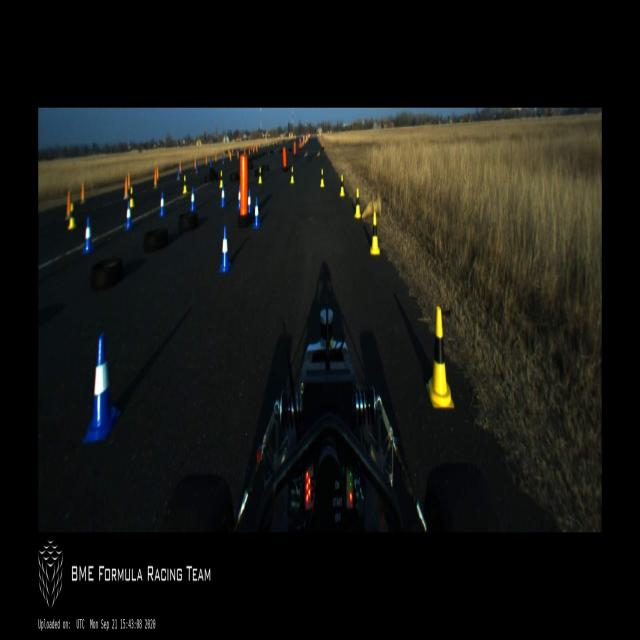blue_cone: (83, 333, 120, 442), (219, 226, 232, 272), (82, 217, 94, 254), (124, 200, 134, 231), (252, 196, 260, 230), (158, 194, 167, 218), (247, 188, 253, 215), (190, 185, 196, 212), (220, 184, 226, 208), (237, 185, 240, 209)
yellow_cone: (426, 307, 454, 410), (370, 212, 380, 255), (68, 202, 76, 230), (354, 188, 361, 218), (129, 188, 135, 209), (319, 168, 325, 188), (340, 174, 345, 195), (182, 174, 187, 194), (218, 171, 223, 189), (290, 165, 294, 184), (258, 166, 262, 185)
